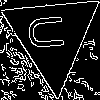U: (27, 11, 73, 52)
